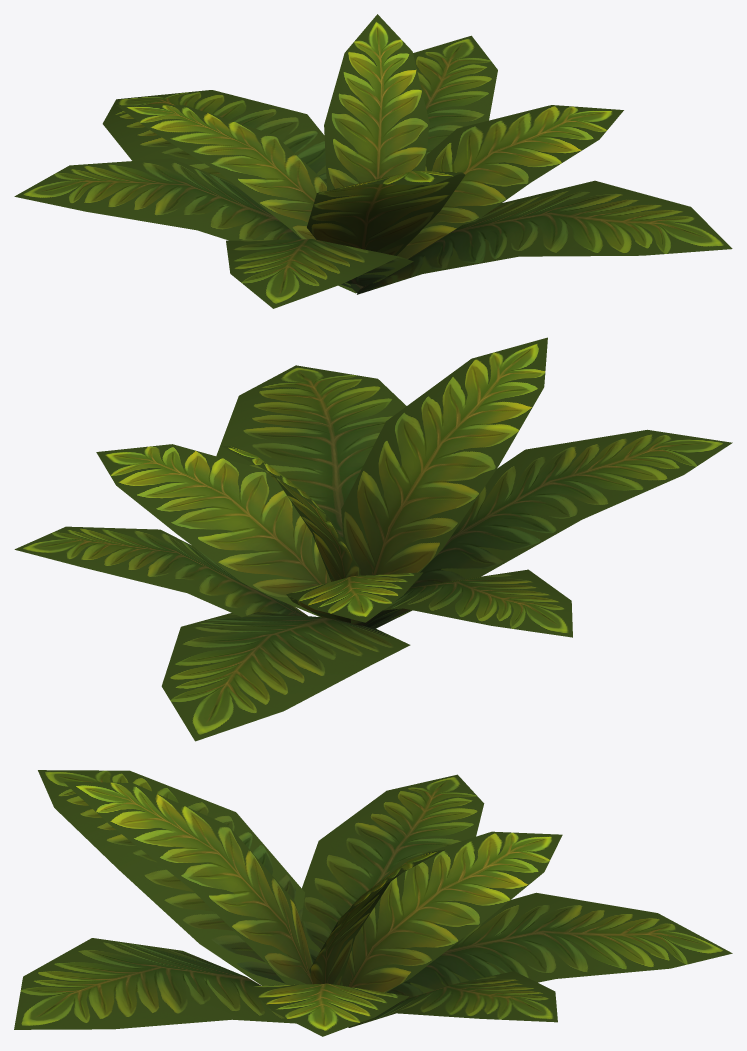
File: Fern.FBX
3 views of the same model, one above another, from view 1: azimuth 30°, elevation 25°; view 2: azimuth 150°, elevation 25°; view 3: azimuth 270°, elevation 25° (orthographic).
Parts seen in each view (by area): view 1: Fern; view 2: Fern; view 3: Fern.
Boxes of the visible parts, x1,y1,x2,y2 form: Fern: (14,14,732,308); Fern: (14,337,732,741); Fern: (14,770,732,1036).
Size of the model in its own units: 1.07 by 0.3984 by 1.23.
